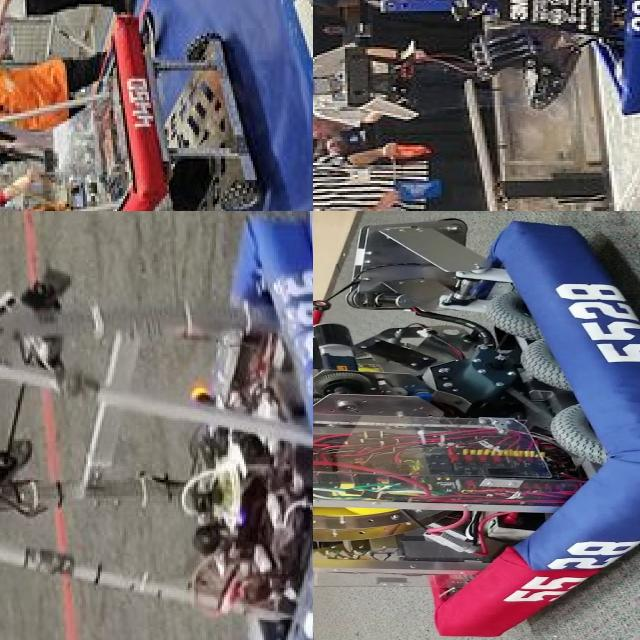FRC-Robots: (313, 211, 640, 640), (0, 211, 313, 640), (328, 0, 640, 135), (0, 15, 163, 211)
